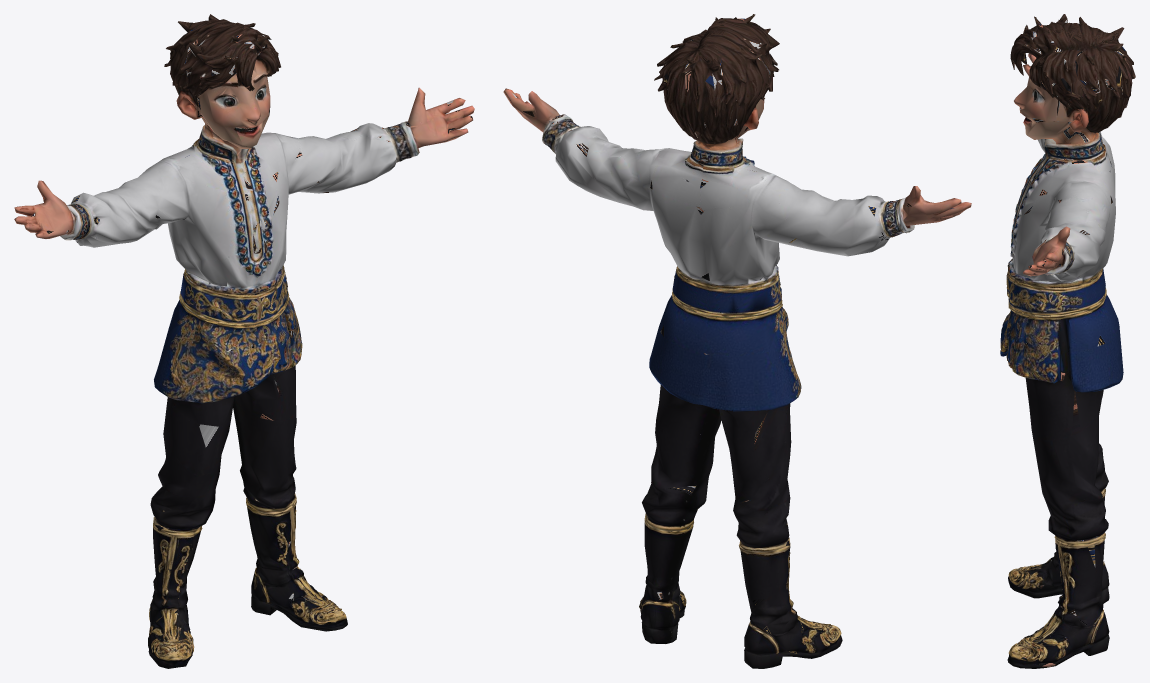
The model's file is athlete.glb.
3 renders of one model, left to right at view 1: azimuth 30°, elevation 25°; view 2: azimuth 150°, elevation 25°; view 3: azimuth 270°, elevation 25°, orthographic. The views are drawn at different scales.
Parts seen in each view (by area): view 1: Supplied Uyghur athlete; view 2: Supplied Uyghur athlete; view 3: Supplied Uyghur athlete.
Boxes of the visible parts, x1,y1,x2,y2 form: Supplied Uyghur athlete: (14,14,474,668); Supplied Uyghur athlete: (503,14,971,668); Supplied Uyghur athlete: (1000,14,1135,668).
Bounding box in the file's own units: 0.7714 × 0.9789 × 0.1999.
Materials: 1 (1 with a texture image).
